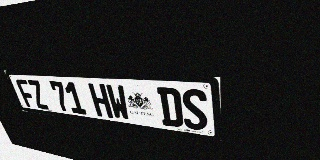1: (62, 82, 87, 115)
7: (48, 81, 73, 113)
D: (157, 87, 184, 128)
F: (15, 79, 38, 108)
H: (88, 83, 113, 118)
S: (181, 88, 208, 131)
W: (105, 84, 131, 121)
Z: (26, 80, 50, 110)
